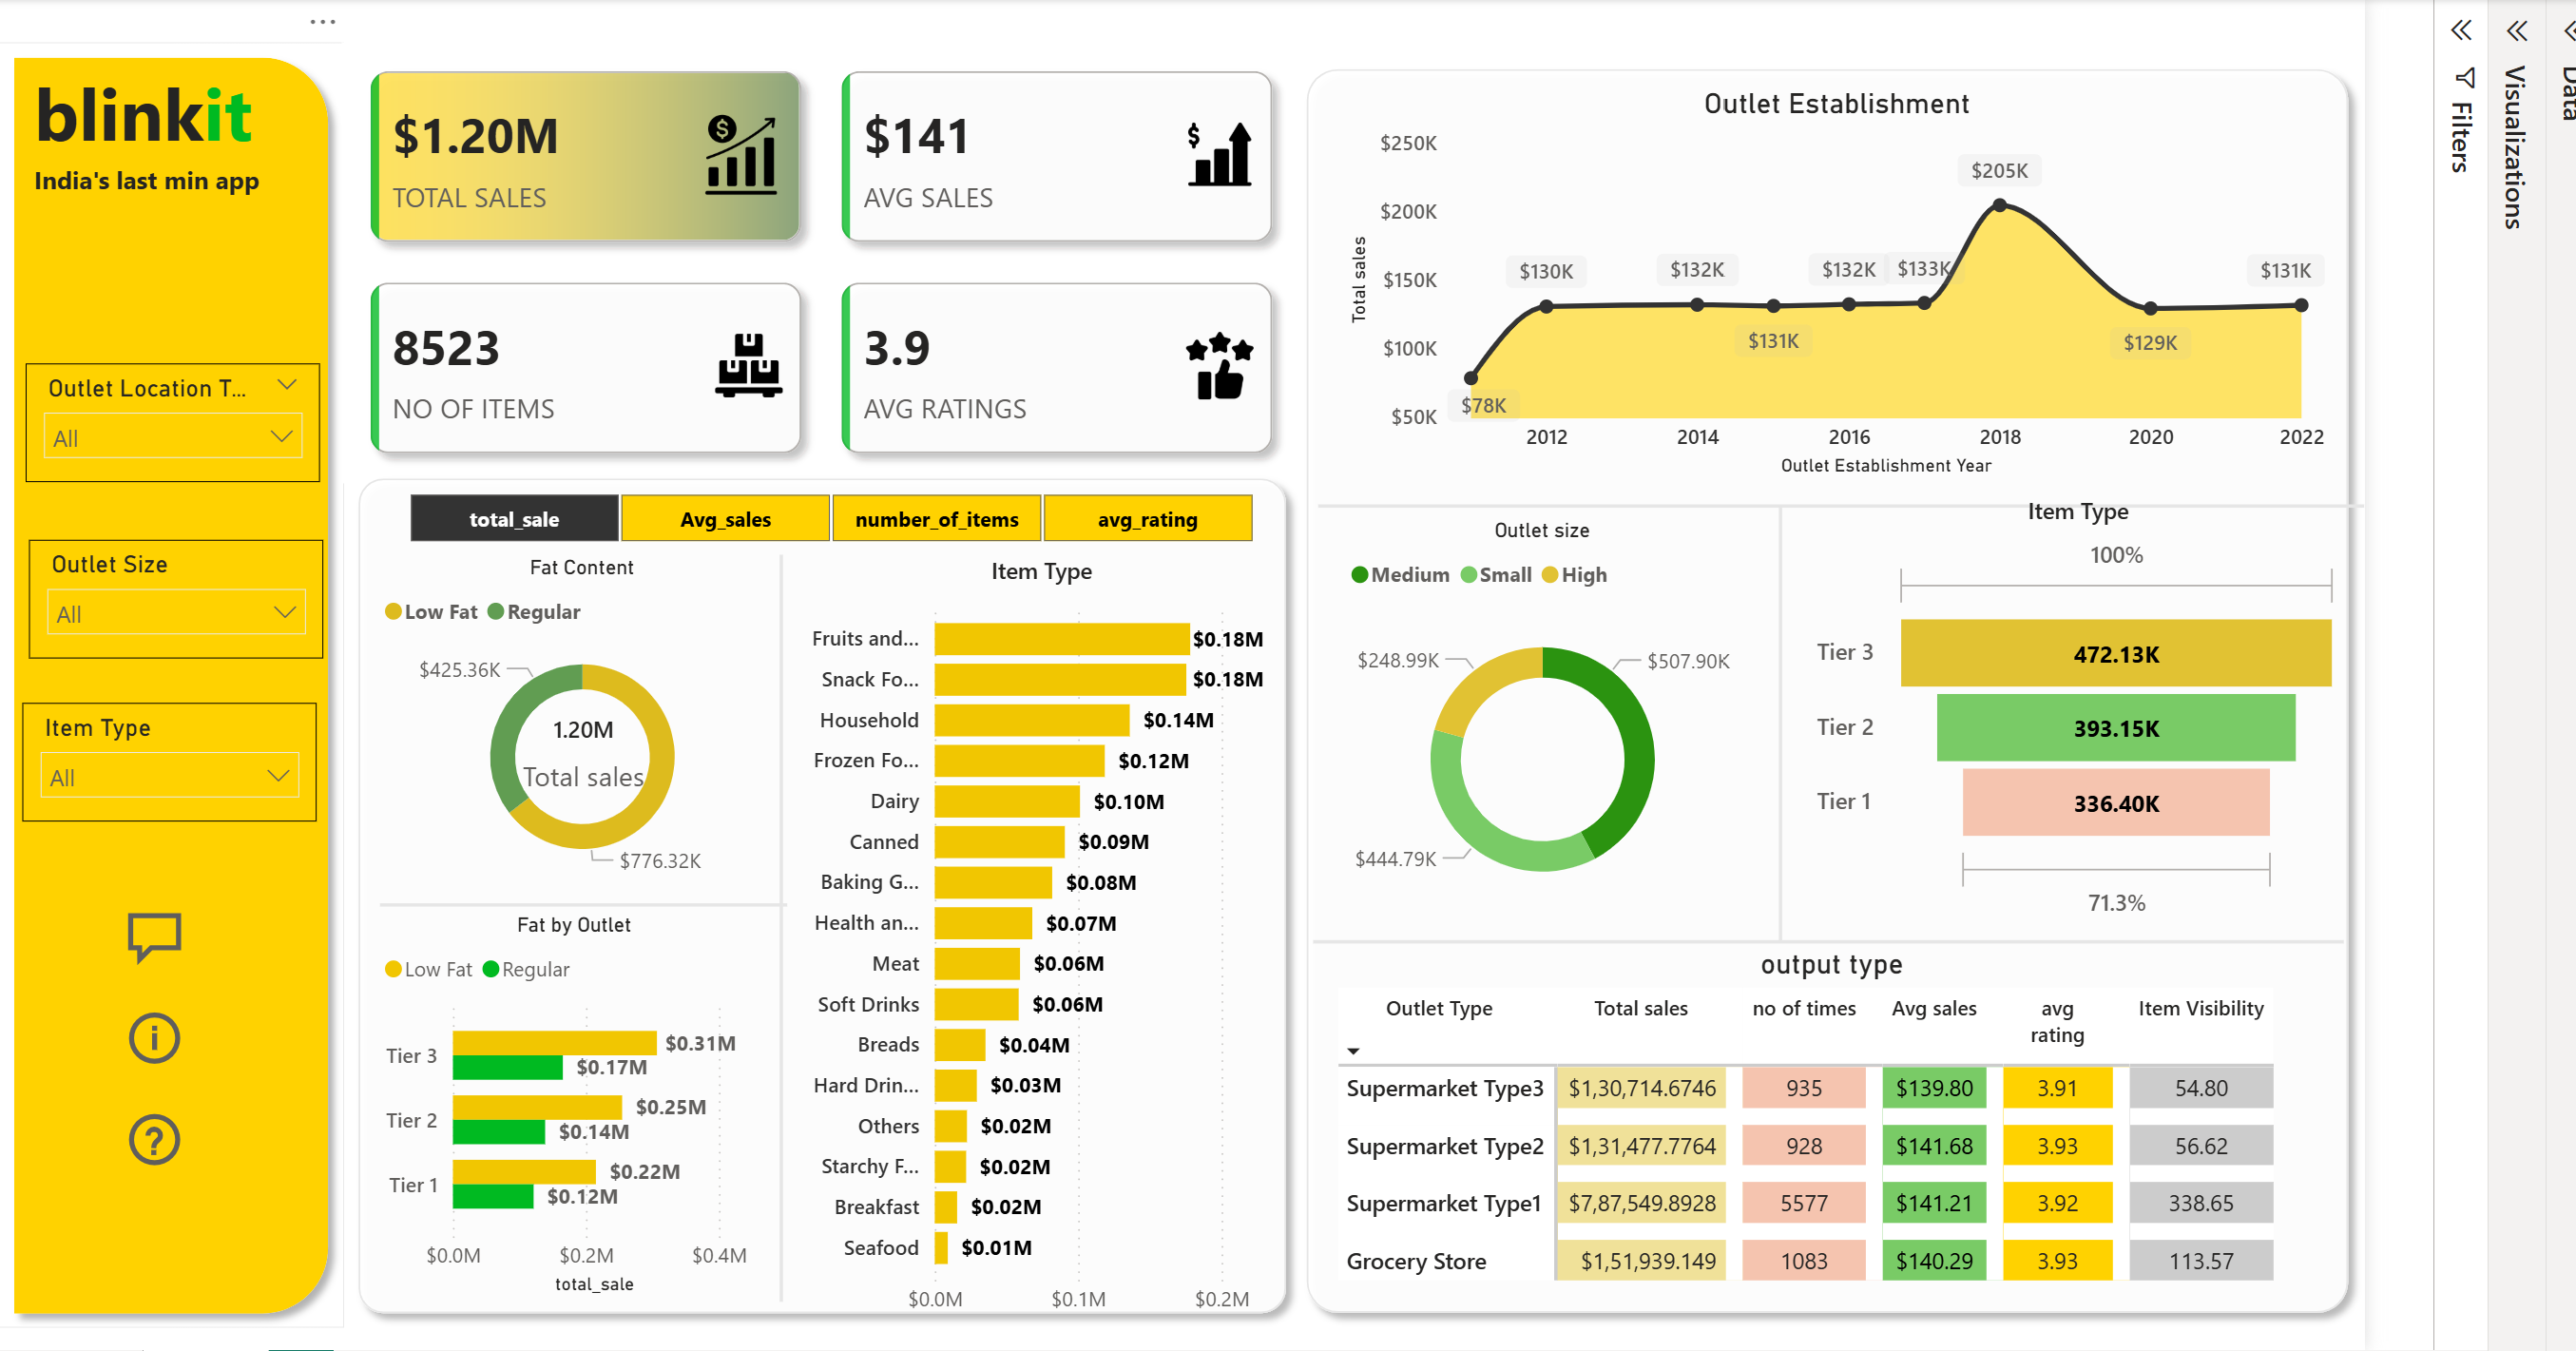

Layout of this report page (visuals, bound fields, positions):
{"tool":"powerbi","page":{"name":"Page 1","canvas":[1400,800],"ordinal":0},"visuals":[{"type":"shape","box":[0,25.5,203.8,761.7],"z":0},{"type":"textbox","box":[16.1,32.2,155.6,76.4],"z":1000},{"type":"textbox","box":[16.1,91.2,155.6,36.2],"z":2000},{"type":"cardVisual","fields":{"Data":["BlinkIT Grocery Data.total_sale","BlinkIT Grocery Data.Avg_sales","BlinkIT Grocery Data.number_of_items","BlinkIT Grocery Data.avg_rating"]},"box":[203.3,25.4,568.3,261.1],"z":3000},{"type":"shape","box":[203.8,274.9,567.2,512.3],"z":4000},{"type":"donutChart","title":"Fat Content","fields":{"Y":["BlinkIT Grocery Data.Total sales"],"Category":["BlinkIT Grocery Data.Item Fat Content"]},"box":[222.6,328.5,245.4,197.1],"z":5000},{"type":"slicer","fields":{"Values":["Metrics.Metrics"]},"box":[217.2,287,548.5,41.6],"z":6000},{"type":"cardVisual","fields":{"Data":["BlinkIT Grocery Data.Total sales"]},"box":[284.3,406.3,123.4,80.5],"z":7000},{"type":"clusteredBarChart","title":"Fat by Outlet ","fields":{"Y":["BlinkIT Grocery Data.Total sales"],"Category":["BlinkIT Grocery Data.Outlet Location Type"],"Series":["BlinkIT Grocery Data.Item Fat Content"]},"box":[222.6,540.4,236,230.7],"z":8000},{"type":"shape","box":[225.2,505.9,241.4,60.1],"z":9000},{"type":"barChart","title":" Item Type","fields":{"Y":["BlinkIT Grocery Data.Total sales"],"Category":["BlinkIT Grocery Data.Item Type"]},"box":[464,328.5,307.1,458.6],"z":10000},{"type":"shape","box":[434.5,328.5,57.7,442.5],"z":11000},{"type":"shape","box":[765.8,32.3,634.2,754.3],"z":12000},{"type":"lineChart","title":" Outlet Establishment","fields":{"Category":["BlinkIT Grocery Data.Outlet Establishment Year"],"Y":["BlinkIT Grocery Data.Total sales"]},"box":[794.7,52,586.8,234.5],"z":13000},{"type":"shape","box":[780.9,271.5,619.1,56.6],"z":14000},{"type":"donutChart","title":"Outlet size","fields":{"Y":["BlinkIT Grocery Data.Total sales"],"Category":["BlinkIT Grocery Data.Outlet Size"]},"box":[794.7,307.3,238,243.7],"z":15000},{"type":"shape","box":[1018.8,300.3,71.6,257.6],"z":16000},{"type":"funnel","title":" Item Type","fields":{"Category":["BlinkIT Grocery Data.Outlet Location Type"],"Y":["Sum(BlinkIT Grocery Data.Sales)"]},"box":[1070.8,293.4,320,257.6],"z":17000},{"type":"shape","box":[778.5,551,609.9,15],"z":18000},{"type":"pivotTable","title":"output type","fields":{"Rows":["BlinkIT Grocery Data.Outlet Type"],"Values":["BlinkIT Grocery Data.Total sales","BlinkIT Grocery Data.number_of_items","BlinkIT Grocery Data.Avg_sales","BlinkIT Grocery Data.avg_rating","Sum(BlinkIT Grocery Data.Item Visibility)"]},"box":[787.8,561.4,593.7,225.2],"z":19000},{"type":"slicer","fields":{"Values":["BlinkIT Grocery Data.Outlet Location Type"]},"box":[16.2,216,174.4,70.5],"z":20000},{"type":"slicer","fields":{"Values":["BlinkIT Grocery Data.Outlet Size"]},"box":[17.3,320,174.4,70.5],"z":21000},{"type":"slicer","fields":{"Values":["BlinkIT Grocery Data.Item Type"]},"box":[13.9,417,174.4,70.5],"z":22000},{"type":"actionButton","box":[71.6,655,100.5,40.4],"z":23000},{"type":"actionButton","box":[71.6,594.9,100.5,40.4],"z":24000},{"type":"actionButton","box":[71.6,536,100.5,40.4],"z":25000}]}

Visuals, with their boxes on the page's 1400x800 design canvas (x1, y1, x2, y2). These are canvas units, not pixel positions in the 2576x1351 screenshot, which may show the page scaled, cropped or inside an application window:
shape: bbox=[0, 26, 204, 787]
textbox: bbox=[16, 32, 172, 109]
textbox: bbox=[16, 91, 172, 127]
cardVisual - BlinkIT Grocery Data.total_sale x BlinkIT Grocery Data.Avg_sales: bbox=[203, 25, 772, 286]
shape: bbox=[204, 275, 771, 787]
"Fat Content" donutChart: bbox=[223, 328, 468, 526]
slicer - Metrics.Metrics: bbox=[217, 287, 766, 329]
cardVisual - BlinkIT Grocery Data.Total sales: bbox=[284, 406, 408, 487]
"Fat by Outlet " clusteredBarChart: bbox=[223, 540, 459, 771]
shape: bbox=[225, 506, 467, 566]
" Item Type" barChart: bbox=[464, 328, 771, 787]
shape: bbox=[434, 328, 492, 771]
shape: bbox=[766, 32, 1400, 787]
" Outlet Establishment" lineChart: bbox=[795, 52, 1382, 286]
shape: bbox=[781, 272, 1400, 328]
"Outlet size" donutChart: bbox=[795, 307, 1033, 551]
shape: bbox=[1019, 300, 1090, 558]
" Item Type" funnel: bbox=[1071, 293, 1391, 551]
shape: bbox=[778, 551, 1388, 566]
"output type" pivotTable: bbox=[788, 561, 1382, 787]
slicer - BlinkIT Grocery Data.Outlet Location Type: bbox=[16, 216, 191, 286]
slicer - BlinkIT Grocery Data.Outlet Size: bbox=[17, 320, 192, 390]
slicer - BlinkIT Grocery Data.Item Type: bbox=[14, 417, 188, 488]
actionButton: bbox=[72, 655, 172, 695]
actionButton: bbox=[72, 595, 172, 635]
actionButton: bbox=[72, 536, 172, 576]
